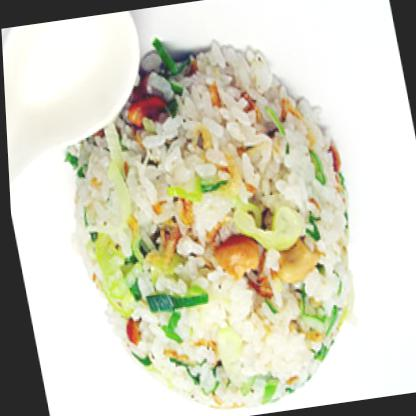fried rice: (45, 13, 372, 415)
